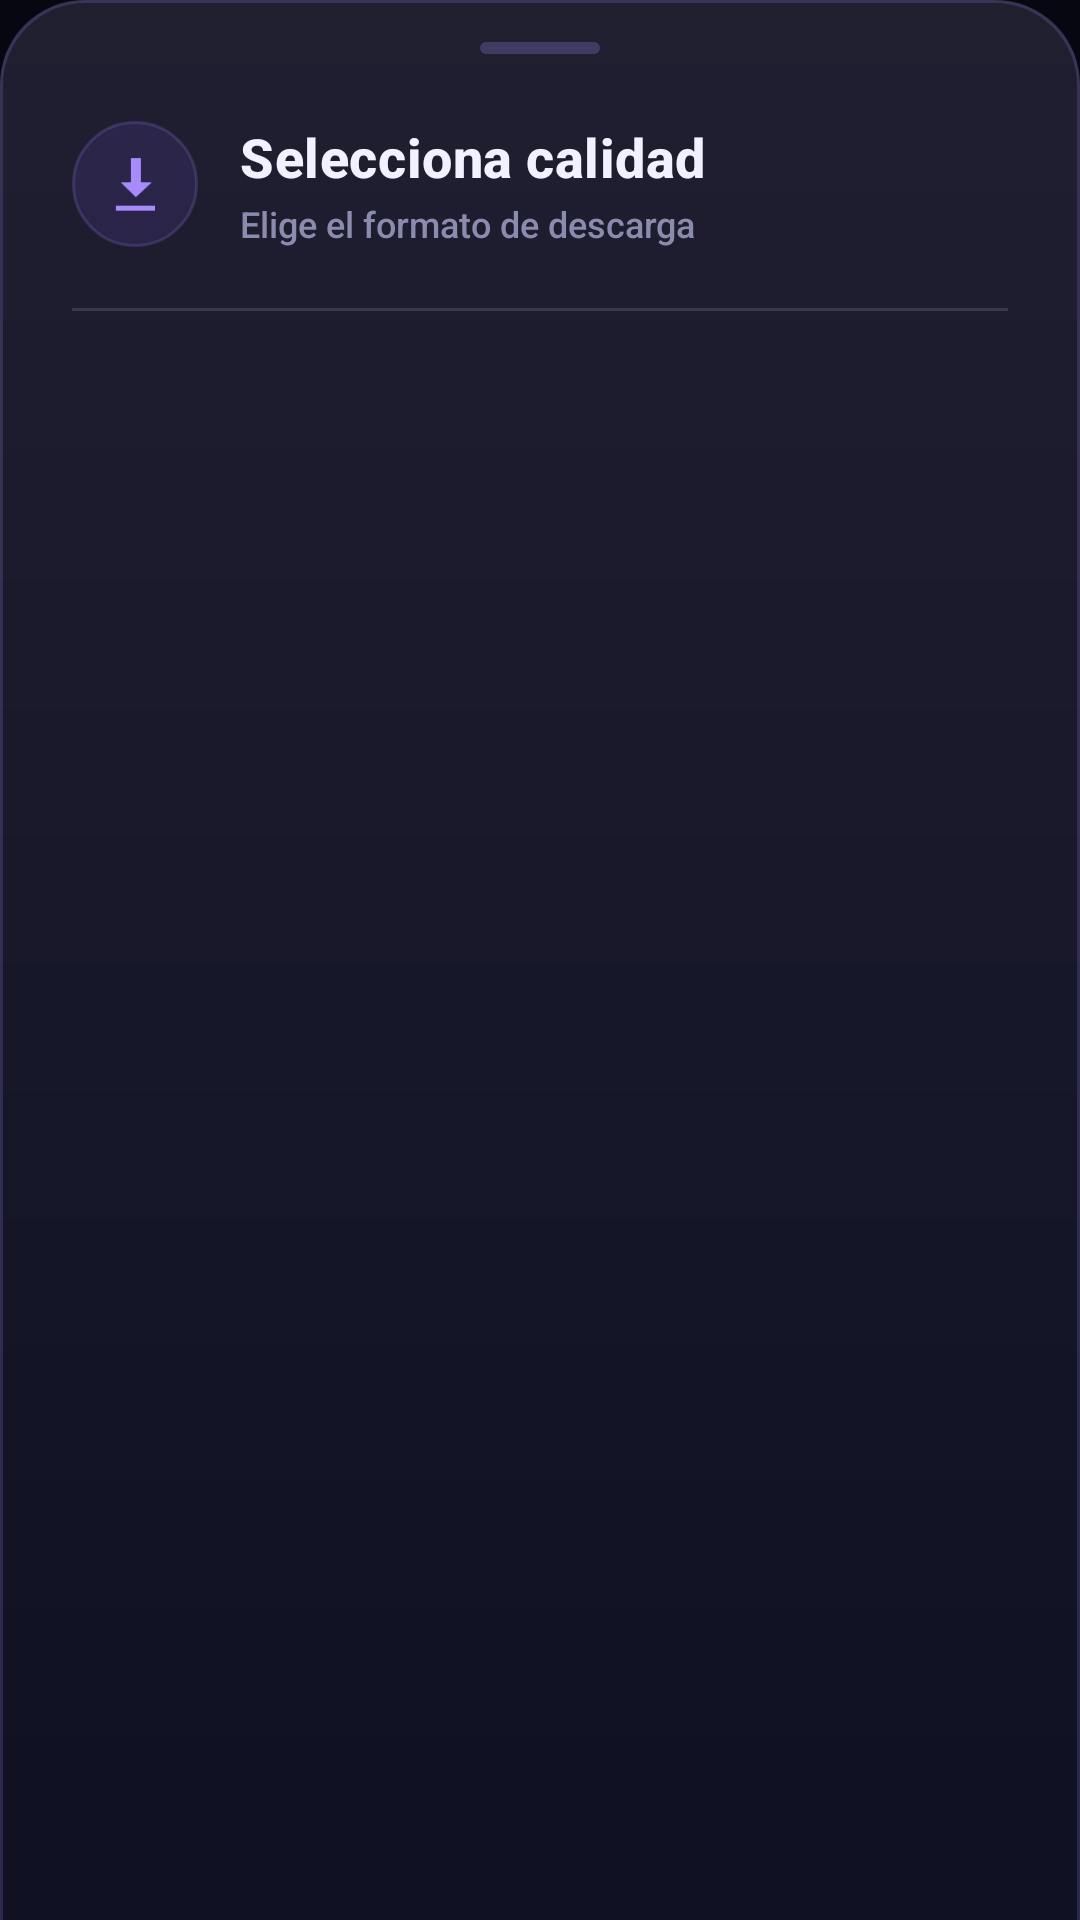

Icons on this 1080 × 1920 Android screen, each with its box as rect(x1, y1, x2, y2):
Descargar: rect(116, 158, 155, 211)
